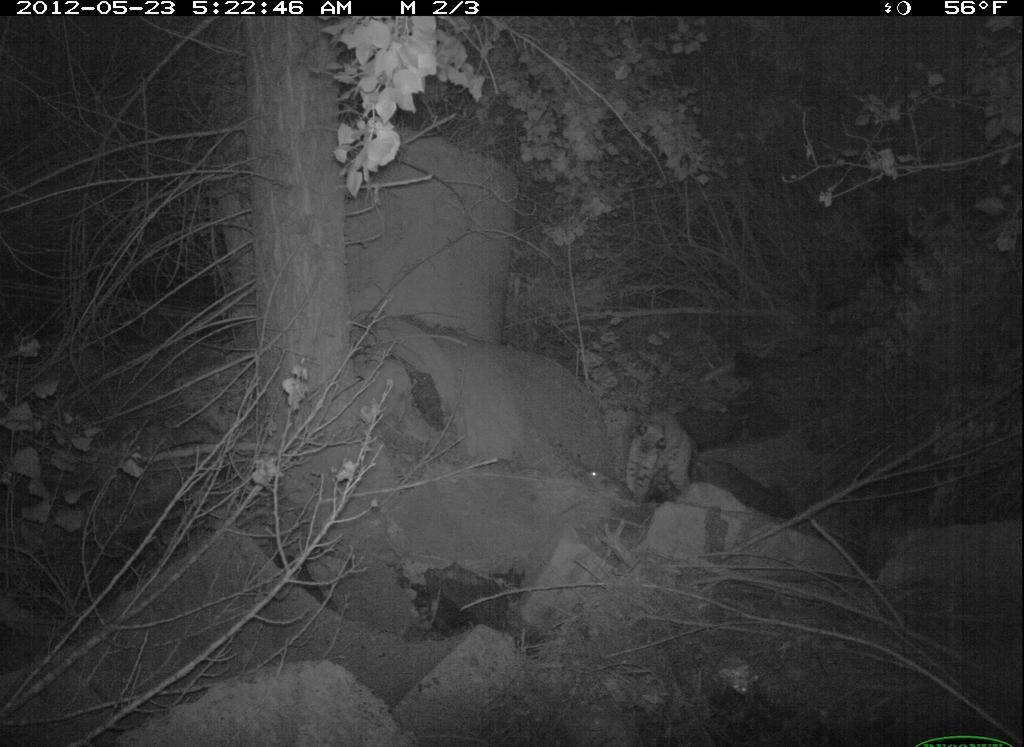bobcat: (617, 408, 715, 514)
